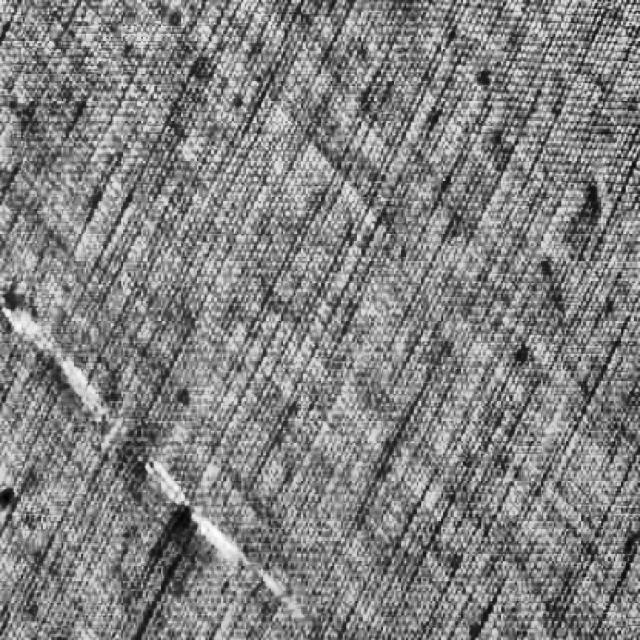thread_error: (0, 284, 324, 637)
